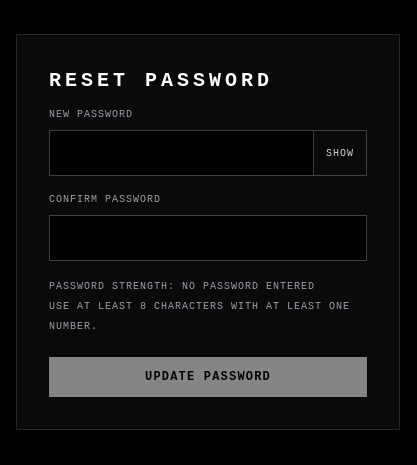
PasswordRecoveryPage › shows a useful error when the password update fails
The width and height of the screenshot is (417, 465).
In the password field labelled "New Password Show": {"x": 182, "y": 153} [49,130,314,176], type "new-password-42"
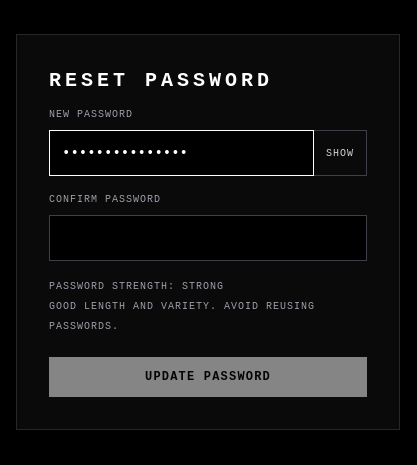
In the password field labelled "Confirm Password": {"x": 208, "y": 238} [49,215,367,261], type "new-password-42"
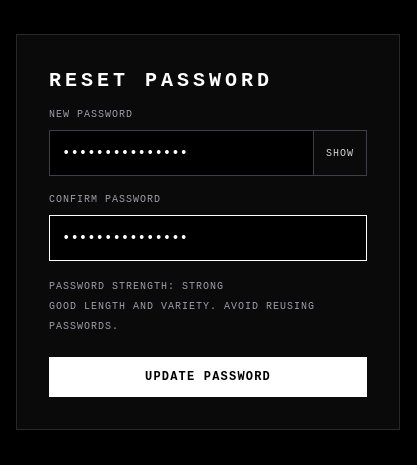
Click the button "Update Password": {"x": 208, "y": 377} [49,357,367,397]
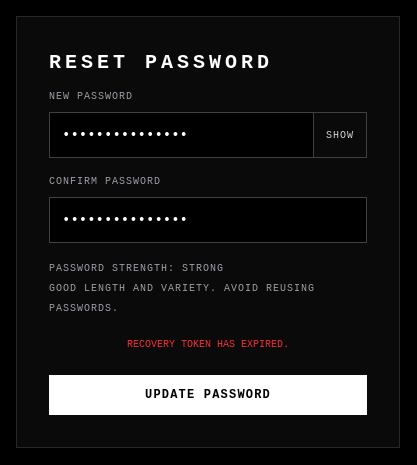
Result: the message shows "Recovery token has expired" at [127,339,289,350]
